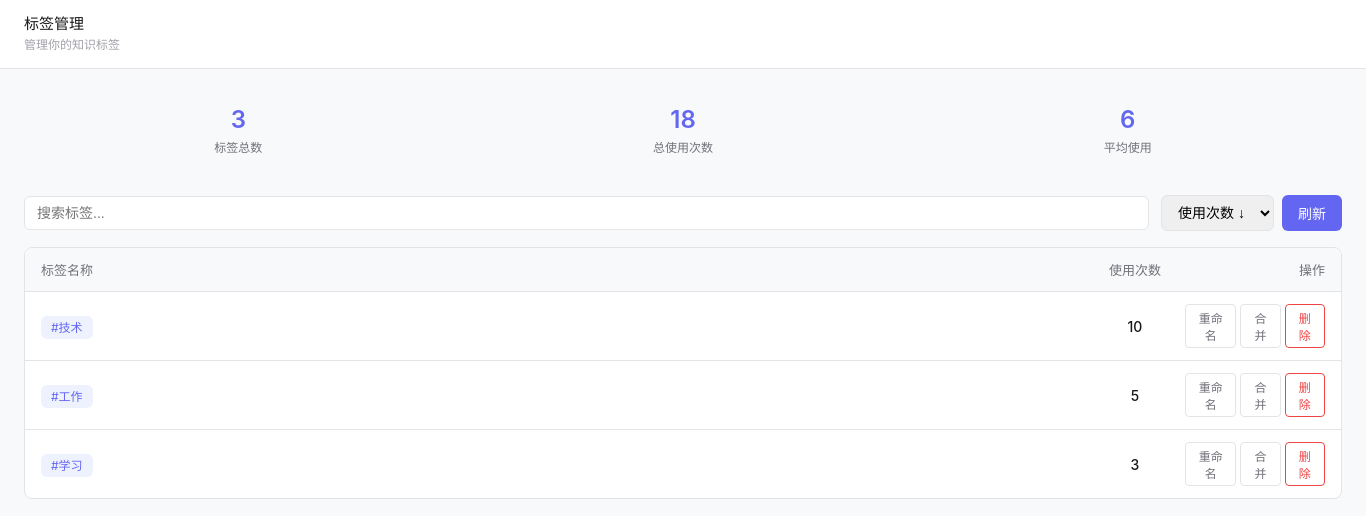
Test: TagsManagement Component › should cancel edit mode when clicking cancel
The image size is (1366, 516).
# Enter edit mode
Click the text "#技术": point(67, 328) [41, 316, 93, 339]
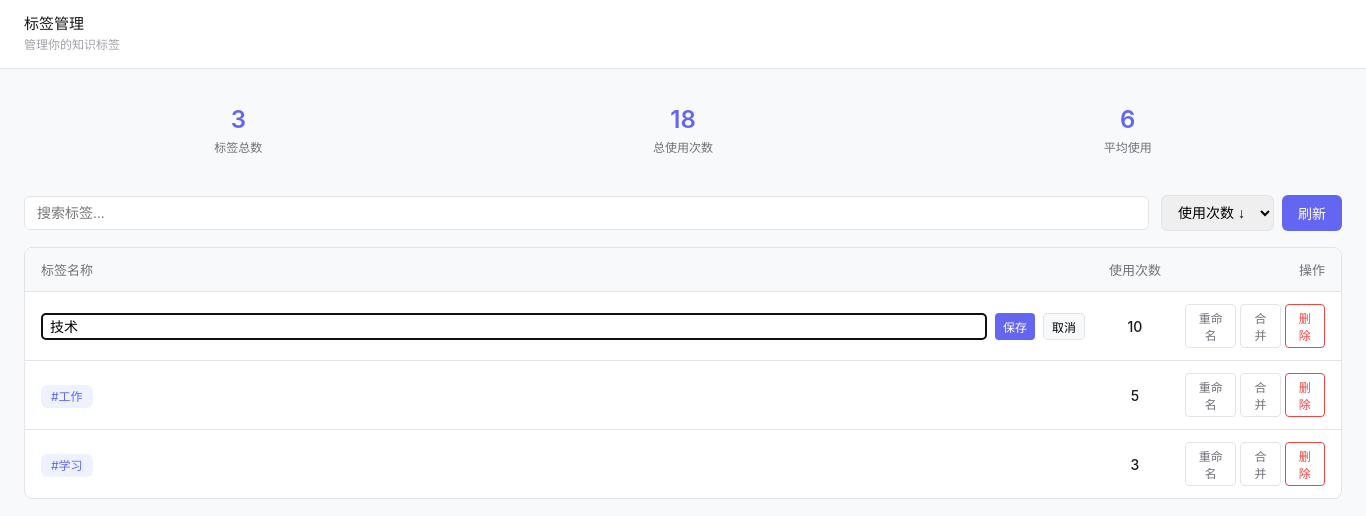
Click the button "取消": point(1064, 326) [1043, 312, 1085, 340]
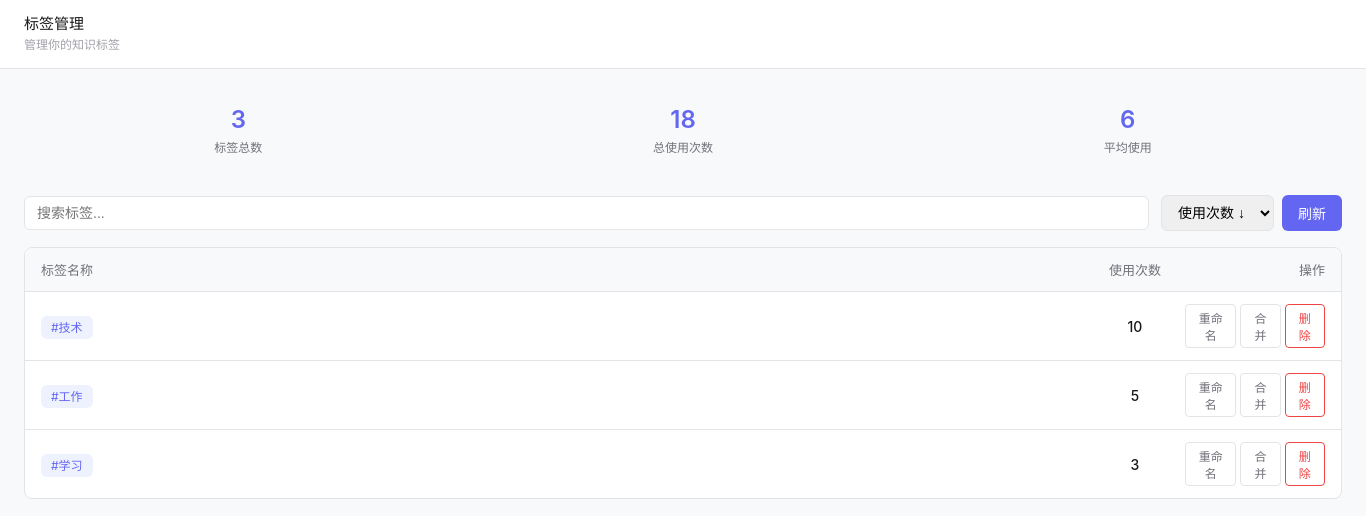
Expected: the text "#技术" is shown, [41, 316, 93, 339]
